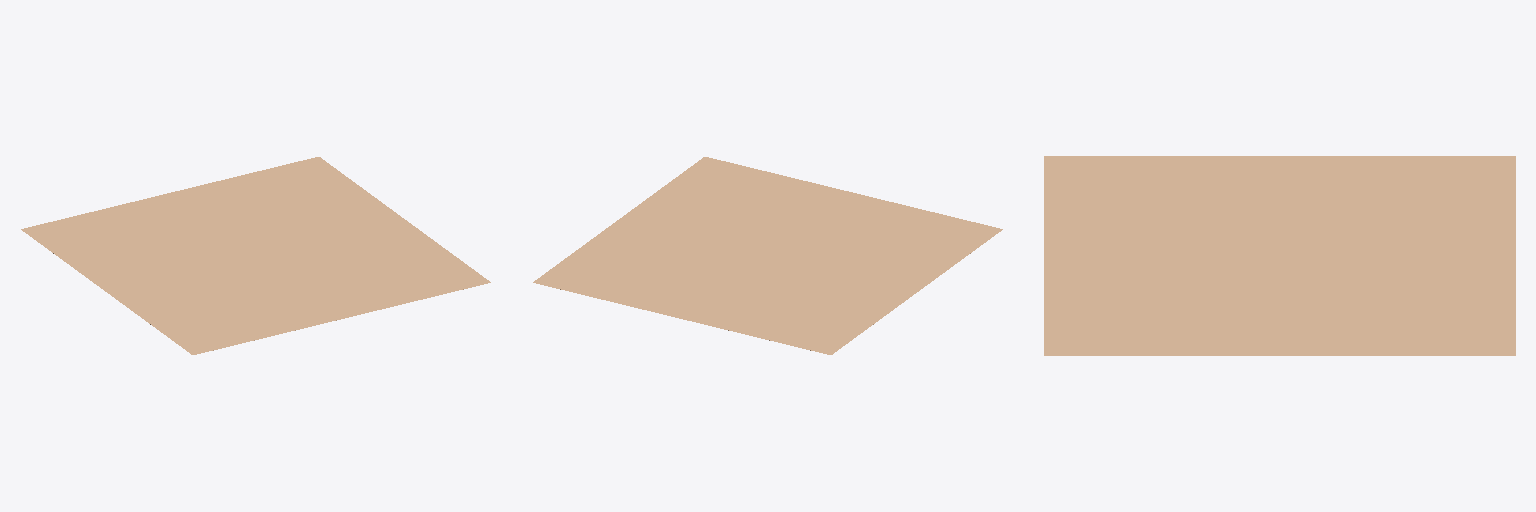
The robot description file, URDF, robot "flat_terrain":
<?xml version="1.0"?>
<robot name="flat_terrain">
  <link name="base_link">
  <contact>
      <lateral_friction value="1"/>
  </contact>
    <inertial>
      <origin rpy="0 0 0" xyz="0 0 0"/>
       <mass value=".0"/>
       <inertia ixx="0" ixy="0" ixz="0" iyy="0" iyz="0" izz="0"/>
    </inertial>
    <visual>
      <origin xyz="0 0 -0.05" rpy="0 0 0" />
      <geometry>
        <box size="2000 2000 0.1" />
      </geometry>
      <material name="desert sand">
        <color rgba="0.9297 0.7930 0.6758 1" />
      </material>
    </visual>
    <collision>
      <origin xyz="0 0 -0.05" rpy="0 0 0" />
      <geometry>
        <box size="2000 2000 0.1" />
      </geometry>
    </collision>
  </link>
</robot>

--- What the picture shows (computed from the rendered views, not written in the file) ---
The picture shows the robot from 3 angles, left to right: view 1: azimuth 30°, elevation 25°; view 2: azimuth 150°, elevation 25°; view 3: azimuth 270°, elevation 25°; orthographic projection.
Model flat_terrain with 1 links and 0 joints (none), rooted at base_link, posed every joint at zero.
Links seen in each view (by area): view 1: base_link; view 2: base_link; view 3: base_link.
Boxes of the visible links, x1=… form: base_link: x1=21, y1=157, x2=490, y2=354; base_link: x1=533, y1=157, x2=1002, y2=354; base_link: x1=1044, y1=156, x2=1515, y2=355.
Bounding box of the posed robot: 2000 × 2000 × 0.1 m (x, y, z).
Geometry: primitives only (box / cylinder / sphere), no mesh files.
